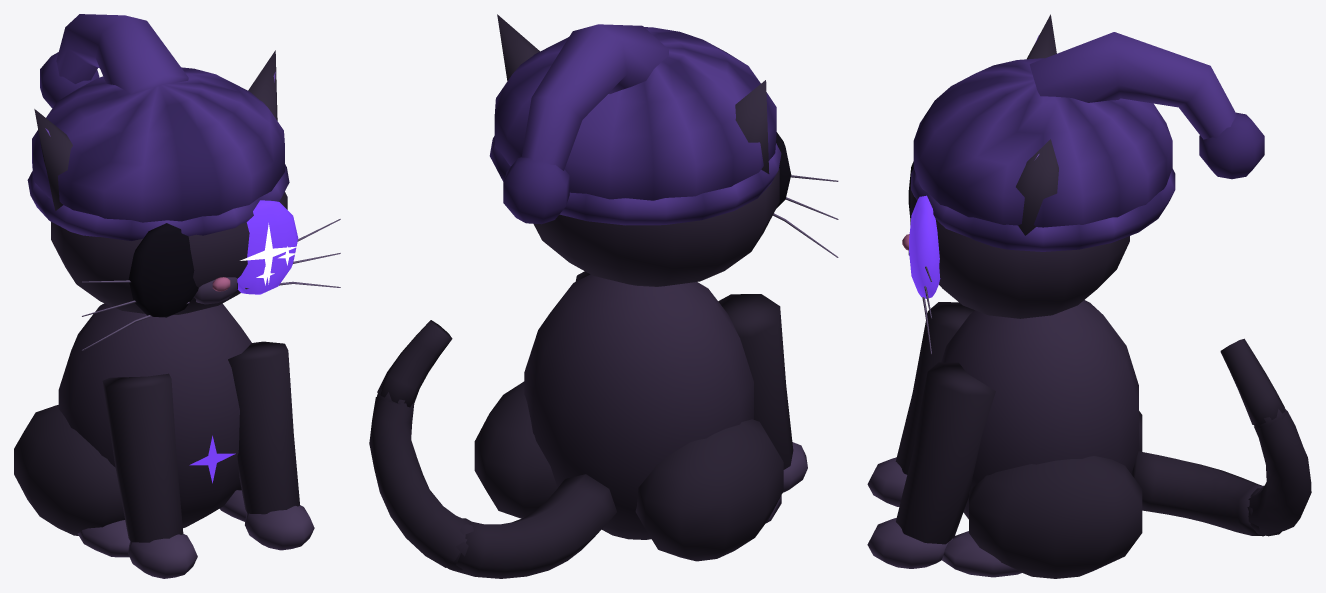
The model's file is kitten.glb.
3 views of the same model, side by side, from view 1: azimuth 30°, elevation 25°; view 2: azimuth 150°, elevation 25°; view 3: azimuth 270°, elevation 25° (orthographic). The views are drawn at different scales.
Visible parts, largest first — view 1: beanie, body, arm_R, arm_L, head, eye_R, eye_L, ear_R, ear_L; view 2: body, beanie, head, tail_0, tail_1, arm_R, tail_2, ear_R, ear_L, eye_R; view 3: beanie, body, arm_L, head, tail_0, tail_1, arm_R, tail_2, eye_L, ear_L, ear_R.
Boxes of the visible parts, left/top/right/bottom form: beanie: left=27, top=14, right=289, bottom=240; body: left=14, top=303, right=251, bottom=557; arm_R: left=102, top=373, right=197, bottom=578; arm_L: left=228, top=341, right=314, bottom=550; head: left=51, top=192, right=340, bottom=350; eye_R: left=128, top=223, right=198, bottom=317; eye_L: left=237, top=200, right=298, bottom=294; ear_R: left=34, top=109, right=72, bottom=210; ear_L: left=248, top=50, right=277, bottom=120; body: left=474, top=274, right=783, bottom=561; beanie: left=489, top=24, right=781, bottom=225; head: left=533, top=168, right=838, bottom=286; tail_0: left=443, top=474, right=616, bottom=578; tail_1: left=369, top=389, right=470, bottom=567; arm_R: left=718, top=294, right=807, bottom=492; tail_2: left=377, top=320, right=452, bottom=407; ear_R: left=735, top=80, right=769, bottom=173; ear_L: left=497, top=14, right=539, bottom=80; eye_R: left=776, top=132, right=791, bottom=208; beanie: left=911, top=32, right=1264, bottom=251; body: left=941, top=300, right=1142, bottom=578; arm_L: left=867, top=362, right=995, bottom=568; head: left=902, top=184, right=1129, bottom=354; tail_0: left=1131, top=451, right=1281, bottom=536; tail_1: left=1248, top=405, right=1311, bottom=535; arm_R: left=867, top=302, right=974, bottom=506; tail_2: left=1220, top=338, right=1284, bottom=425; eye_L: left=909, top=195, right=940, bottom=298; ear_L: left=1016, top=139, right=1058, bottom=235; ear_R: left=1027, top=14, right=1056, bottom=59.
Size of the model in its own units: 0.3325 by 0.5916 by 0.4657.
